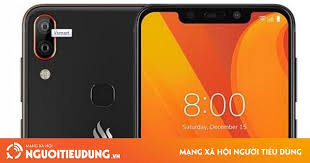vsmart: (135, 2, 301, 163), (19, 2, 138, 163)
